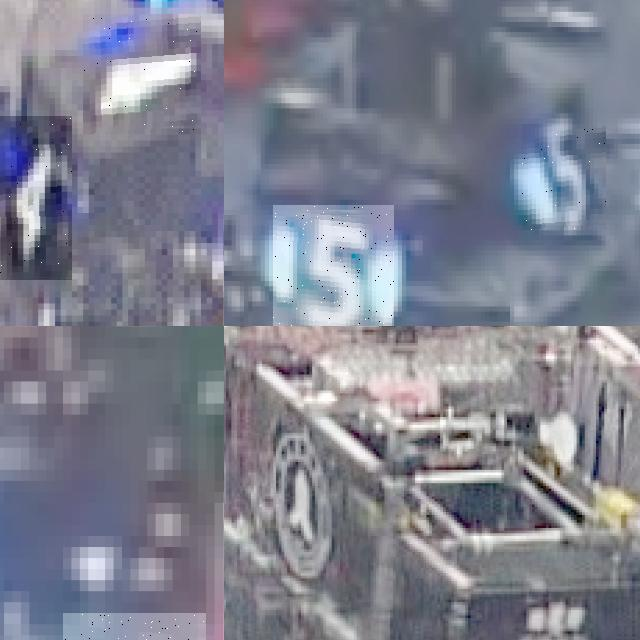B4: (83, 14, 201, 134), (0, 116, 72, 279)
B5: (273, 205, 393, 326), (522, 124, 606, 230)
